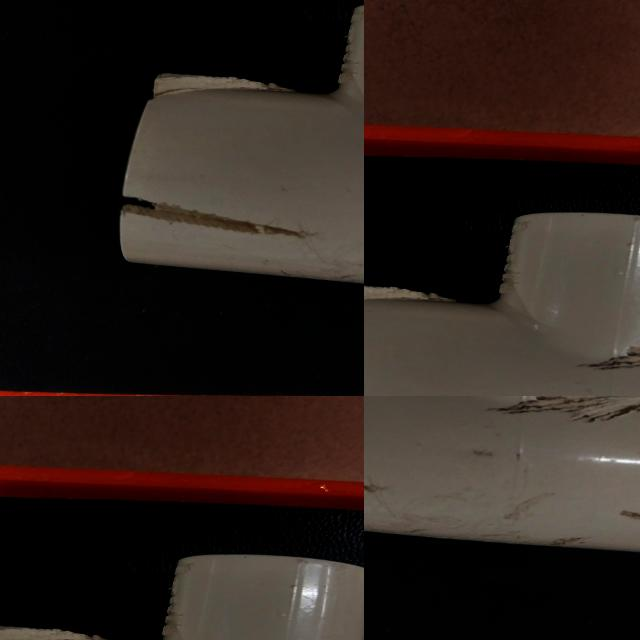Defective: (510, 397, 640, 456), (486, 396, 640, 423), (615, 503, 640, 539)
T Joint: (364, 396, 640, 559)
